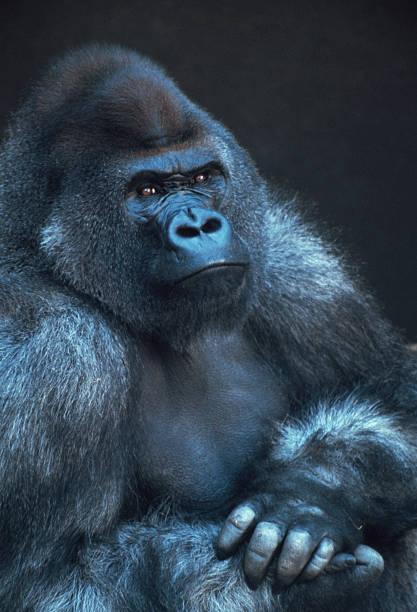gorille_Autres: (13, 46, 417, 612)
